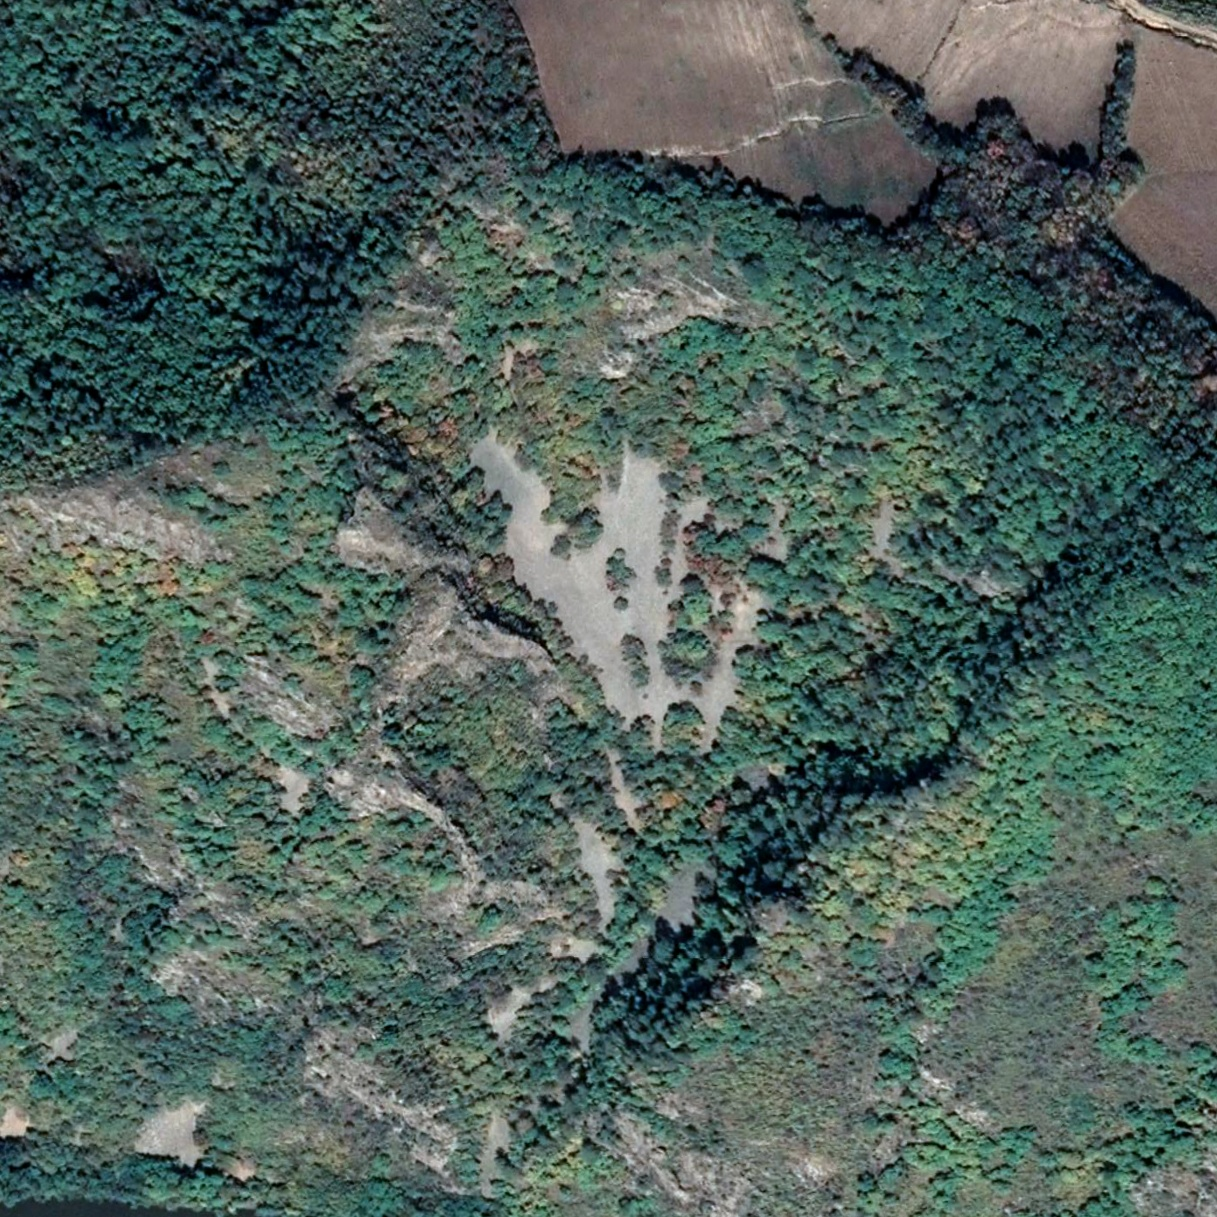slope: (325, 483, 604, 944)
